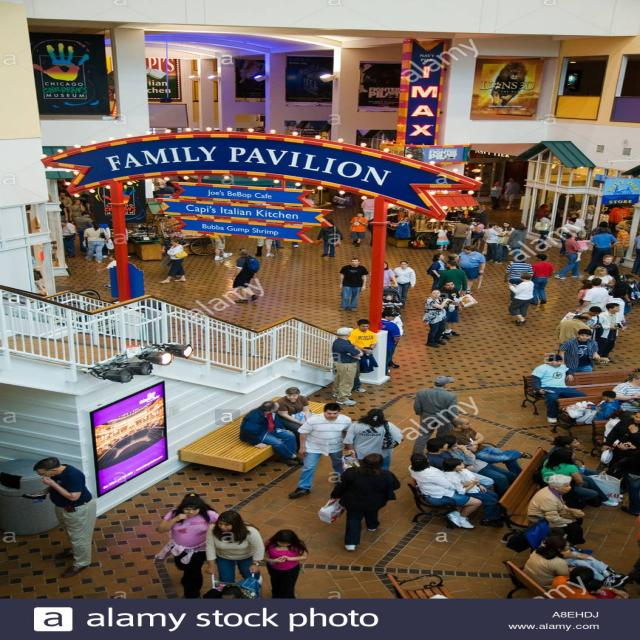body: (20, 456, 100, 580), (316, 450, 402, 552), (155, 492, 222, 599), (287, 402, 354, 500), (406, 452, 484, 530), (542, 434, 624, 507), (537, 527, 630, 588), (448, 416, 533, 477), (439, 456, 508, 529), (442, 434, 518, 499), (203, 509, 267, 586), (523, 473, 588, 547), (239, 400, 305, 467), (521, 534, 596, 592), (528, 353, 588, 424), (344, 407, 404, 473), (423, 437, 496, 490), (412, 375, 458, 454), (260, 528, 310, 599), (541, 448, 599, 508), (556, 328, 612, 389), (547, 565, 630, 599), (274, 386, 316, 452), (330, 326, 364, 406), (348, 318, 378, 392), (419, 287, 452, 348), (228, 247, 262, 304), (619, 424, 640, 516), (336, 257, 370, 312), (502, 252, 535, 304), (553, 230, 586, 280), (436, 280, 463, 341), (597, 302, 624, 362), (506, 272, 536, 326), (156, 236, 189, 284), (457, 245, 487, 295), (382, 306, 405, 369), (380, 309, 401, 377), (572, 277, 610, 314), (389, 259, 417, 309), (586, 227, 617, 272), (581, 390, 624, 422), (611, 370, 640, 416), (555, 313, 593, 348), (531, 253, 556, 306), (82, 220, 111, 264), (434, 259, 469, 295), (160, 229, 192, 267), (571, 306, 605, 341), (315, 219, 344, 259), (610, 273, 636, 317), (88, 217, 114, 259), (602, 408, 634, 440), (602, 410, 633, 443), (609, 223, 631, 267), (254, 236, 300, 257), (588, 254, 620, 283), (506, 222, 528, 264), (482, 220, 503, 264), (448, 216, 471, 255), (194, 584, 253, 599), (72, 210, 92, 254), (425, 252, 448, 290), (94, 253, 117, 290), (348, 210, 370, 248), (153, 175, 190, 197), (497, 221, 516, 262), (586, 578, 622, 599), (586, 266, 616, 291), (61, 220, 79, 258), (209, 234, 234, 261), (57, 178, 89, 199), (599, 286, 624, 312), (365, 215, 384, 247), (468, 218, 485, 250), (575, 279, 593, 309), (432, 223, 451, 251), (382, 294, 404, 318), (504, 178, 520, 210), (487, 180, 504, 210), (460, 218, 475, 252), (574, 235, 592, 263), (605, 203, 631, 222), (556, 192, 577, 215), (58, 192, 74, 222), (383, 261, 399, 290), (68, 198, 86, 222), (360, 196, 375, 222), (620, 366, 640, 385), (565, 212, 586, 230), (631, 234, 640, 275), (589, 221, 612, 237), (533, 203, 552, 222), (445, 253, 465, 271), (560, 218, 582, 234), (626, 278, 640, 300), (615, 216, 633, 231), (617, 474, 629, 495), (467, 204, 486, 217), (336, 189, 348, 209), (33, 280, 48, 296), (485, 221, 505, 233), (472, 209, 484, 223), (624, 220, 632, 235), (136, 223, 148, 230)
